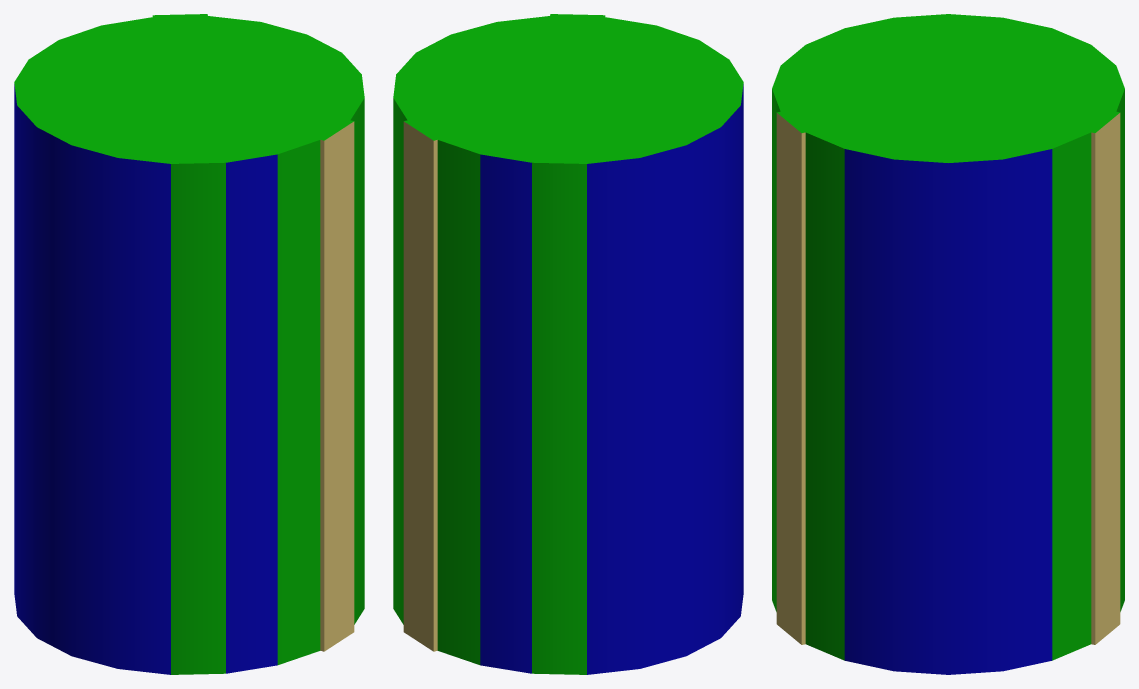
File: br-m-tube-green.fbx
The picture shows the model from 3 angles, left to right: view 1: azimuth 30°, elevation 25°; view 2: azimuth 150°, elevation 25°; view 3: azimuth 270°, elevation 25°; orthographic projection.
Visible parts, largest first — view 1: tube_green4; view 2: tube_green4; view 3: tube_green4.
Part boxes in pixels (box(x1,y1,x2,y2)): tube_green4: box(14, 14, 364, 674); tube_green4: box(393, 14, 743, 674); tube_green4: box(772, 14, 1124, 674).
Bounding box in the file's own units: 0.625 × 1 × 0.625.
